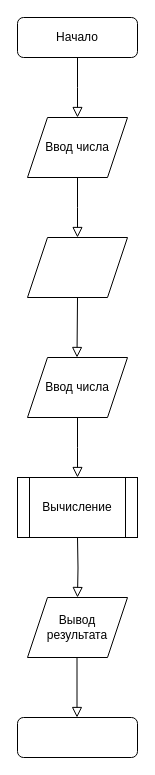
Some shapes in this 155 by 775 pixel diagram are drawn without their labels. Each missing label, with the centre of its shape:
Ввод операции: point (77, 267)
Конец: point (77, 737)
